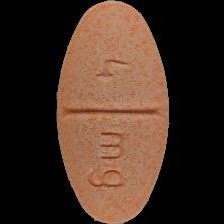10544-292: (0, 0, 224, 224)
